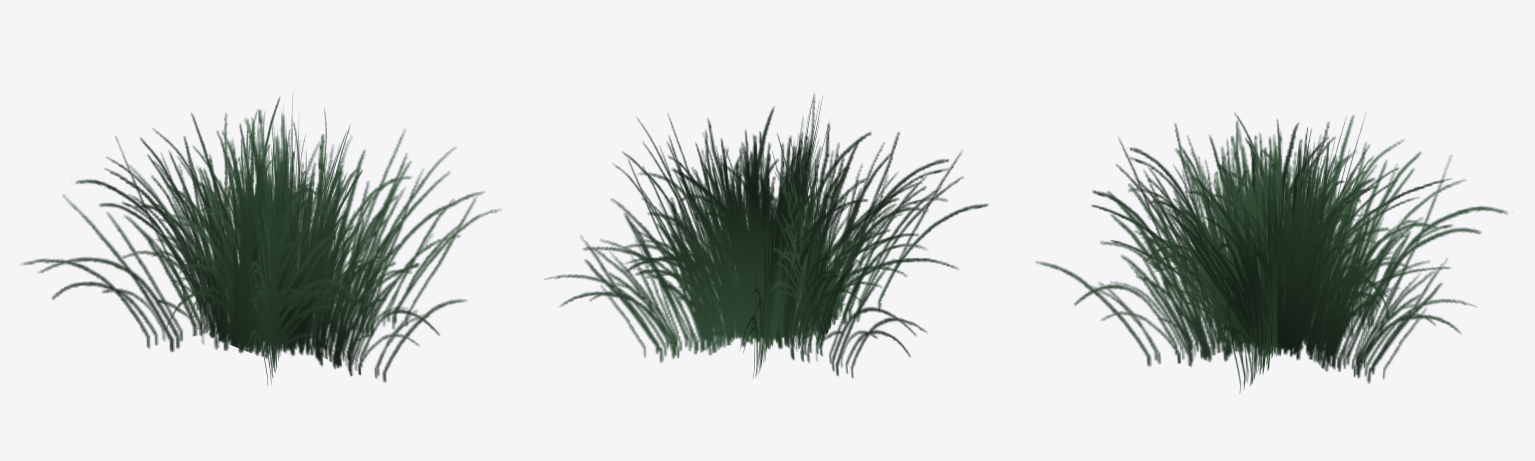
The model's file is grass_medium3.glb.
The picture shows the model from 3 angles, left to right: view 1: azimuth 30°, elevation 25°; view 2: azimuth 150°, elevation 25°; view 3: azimuth 270°, elevation 25°; orthographic projection. The views are drawn at different scales.
Parts seen in each view (by area): view 1: Grass medium 3; view 2: Grass medium 3; view 3: Grass medium 3.
Boxes of the visible parts, x1,y1,x2,y2 form: Grass medium 3: (21, 97, 501, 384); Grass medium 3: (544, 94, 988, 378); Grass medium 3: (1035, 113, 1507, 393).
Size of the model in its own units: 0.3507 by 0.2099 by 0.3752.
Materials: 1 (1 with a texture image).
